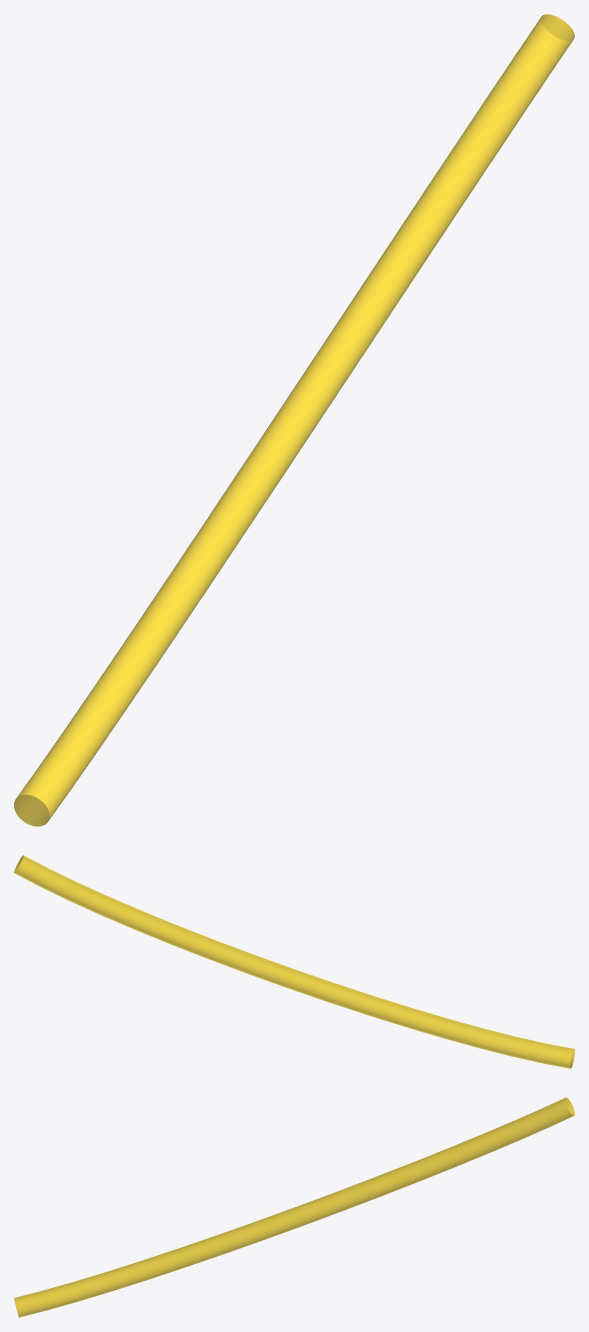
The model's file is Event_419990632_track_23.fbx.
3 views of the same model, one above another, from view 1: azimuth 30°, elevation 25°; view 2: azimuth 150°, elevation 25°; view 3: azimuth 330°, elevation 25° (orthographic). The views are drawn at different scales.
Parts seen in each view (by area): view 1: Model; view 2: Model; view 3: Model.
Part boxes in pixels (left/top/right/bottom): Model: left=14, top=14, right=574, bottom=826; Model: left=14, top=855, right=574, bottom=1068; Model: left=14, top=1097, right=574, bottom=1317.
Bounding box in the file's own units: 0.9601 × 0.4667 × 0.593.
